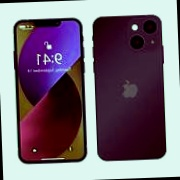iphone: (95, 18, 166, 162), (15, 18, 86, 161)
